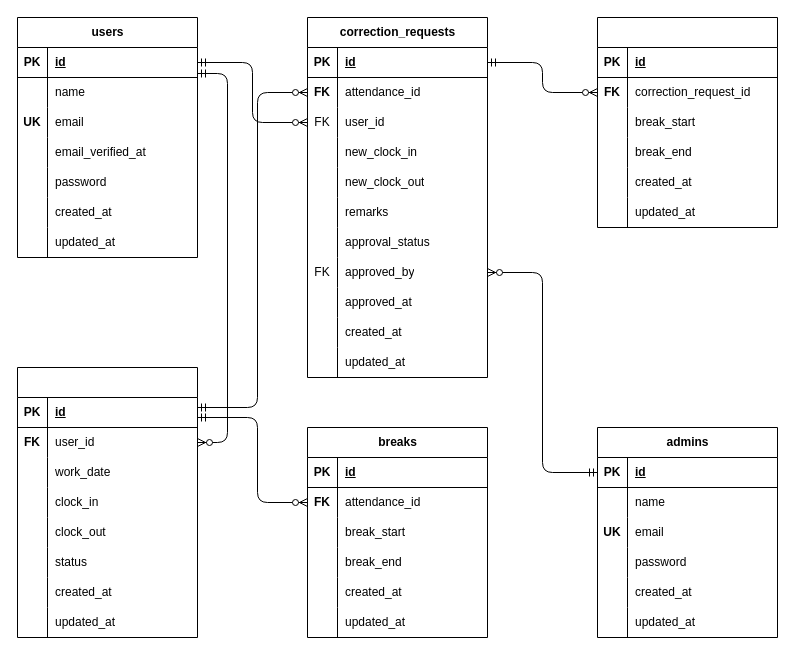
Image size: 795x655. Some labels were removed from this diagram. The box of each missing label's shape, as (x1, y1, x2, y2) in pixels:
attendances: (16, 366, 198, 638)
correction_breaks: (596, 16, 778, 228)
